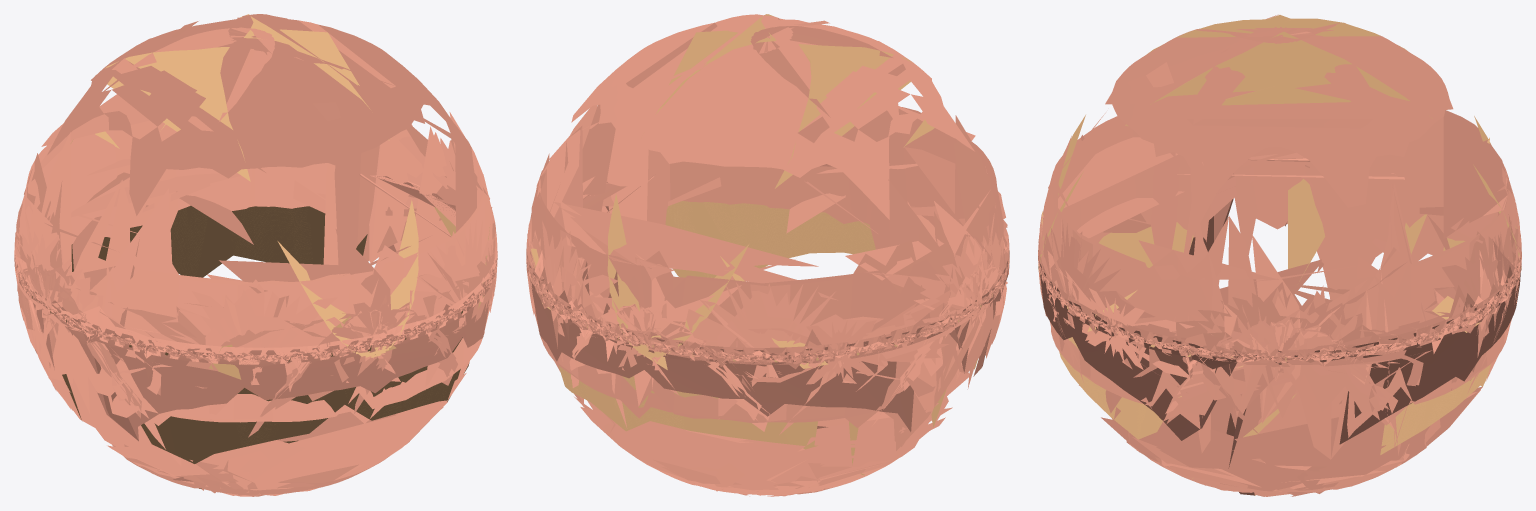
File: offshore.glb
3 views of the same model, side by side, from view 1: azimuth 30°, elevation 25°; view 2: azimuth 150°, elevation 25°; view 3: azimuth 270°, elevation 25° (orthographic).
Parts seen in each view (by area): view 1: piles, conductors; view 2: piles, conductors; view 3: piles, conductors.
Boxes of the visible parts, x1,y1,x2,y2 form: piles: (14,14,497,496); conductors: (31,14,497,488); piles: (526,14,1009,496); conductors: (531,14,1009,475); piles: (1038,14,1521,496); conductors: (1038,15,1521,495).
Bounding box in the file's own units: 2 × 2 × 2.
